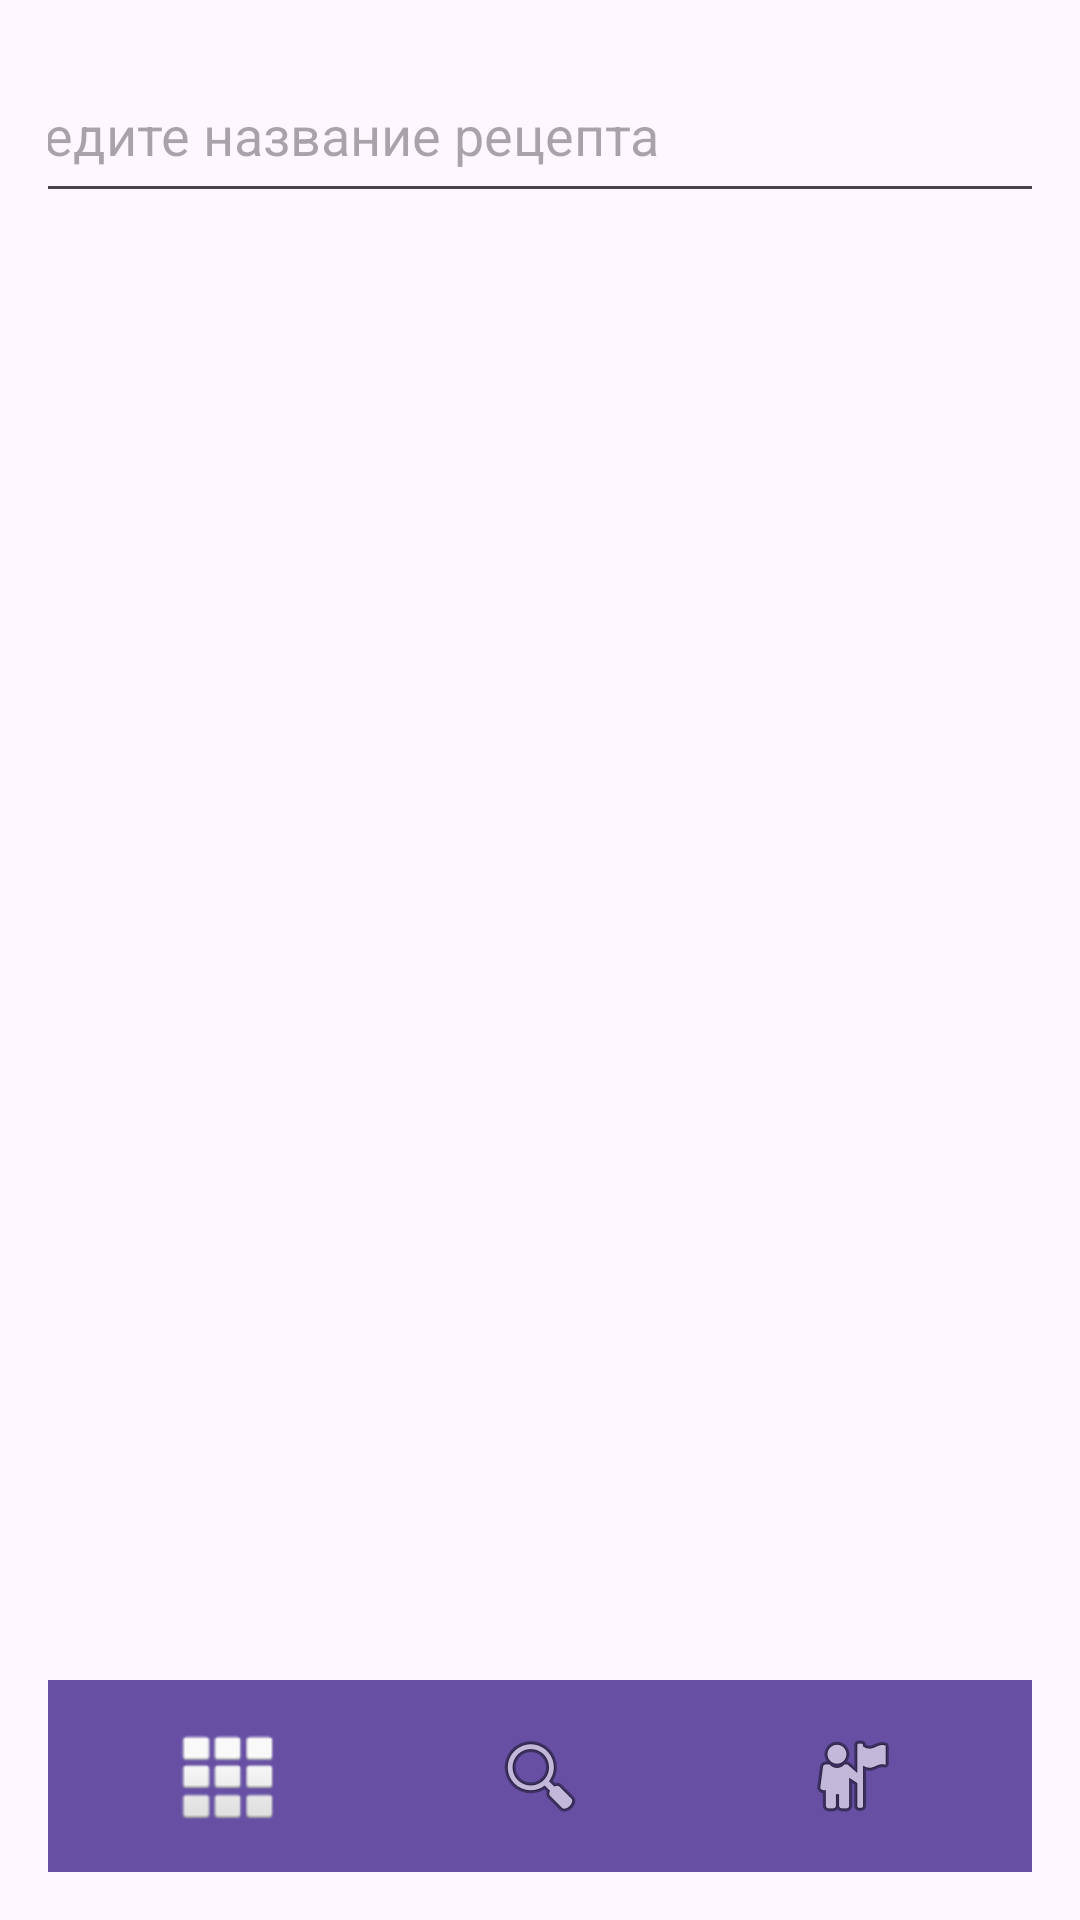

Point at icon controls on the screen. Image size 1080px×1920px, points as (x=x, y=y).
dialer: (x=227, y=1777)
myplaces: (x=853, y=1776)
search: (x=540, y=1776)
